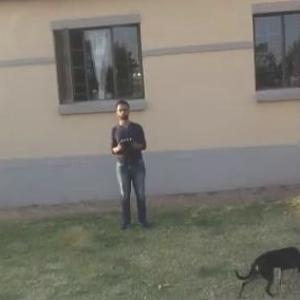follow: (109, 96, 153, 230)
null: (232, 241, 300, 299)
